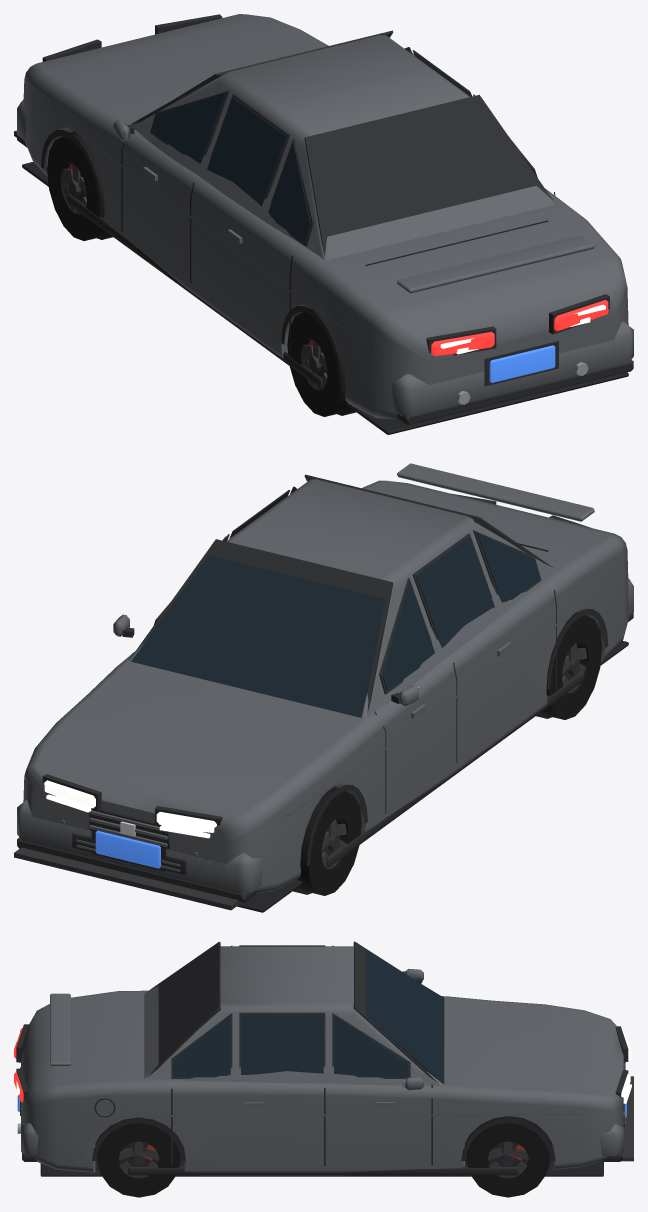
The model's file is car_sedan_sport_gray.glb.
The picture shows the model from 3 angles, top to bottom: view 1: azimuth 30°, elevation 25°; view 2: azimuth 150°, elevation 25°; view 3: azimuth 270°, elevation 25°; orthographic projection. The views are drawn at different scales.
Visible parts, largest first — view 1: Body, Trim, Glass, Wheel_FL, Wheel_RL, Lights, Plate_R; view 2: Body, Glass, Trim, Wheel_FL, Wheel_RL, Lights, Plate_F; view 3: Body, Glass, Trim, Wheel_FR, Wheel_RR, Lights.
Boxes of the visible parts, box(x1,y1,x2,y2) form: Body: box(17, 14, 633, 419); Trim: box(14, 14, 633, 434); Glass: box(124, 34, 513, 243); Wheel_FL: box(47, 133, 107, 240); Wheel_RL: box(287, 310, 350, 416); Lights: box(431, 299, 608, 356); Plate_R: box(489, 345, 555, 382); Body: box(17, 463, 633, 893); Glass: box(126, 479, 540, 717); Trim: box(14, 474, 633, 912); Wheel_FL: box(297, 788, 361, 895); Wheel_RL: box(541, 613, 602, 719); Lights: box(44, 780, 216, 838); Plate_F: box(95, 830, 160, 868); Body: box(21, 946, 623, 1175); Glass: box(173, 950, 444, 1087); Trim: box(16, 941, 633, 1176); Wheel_FR: box(467, 1116, 549, 1197); Wheel_RR: box(97, 1117, 180, 1197); Lights: box(14, 1028, 631, 1103).
Size of the model in its own units: 2.03 by 1.49 by 4.73.
